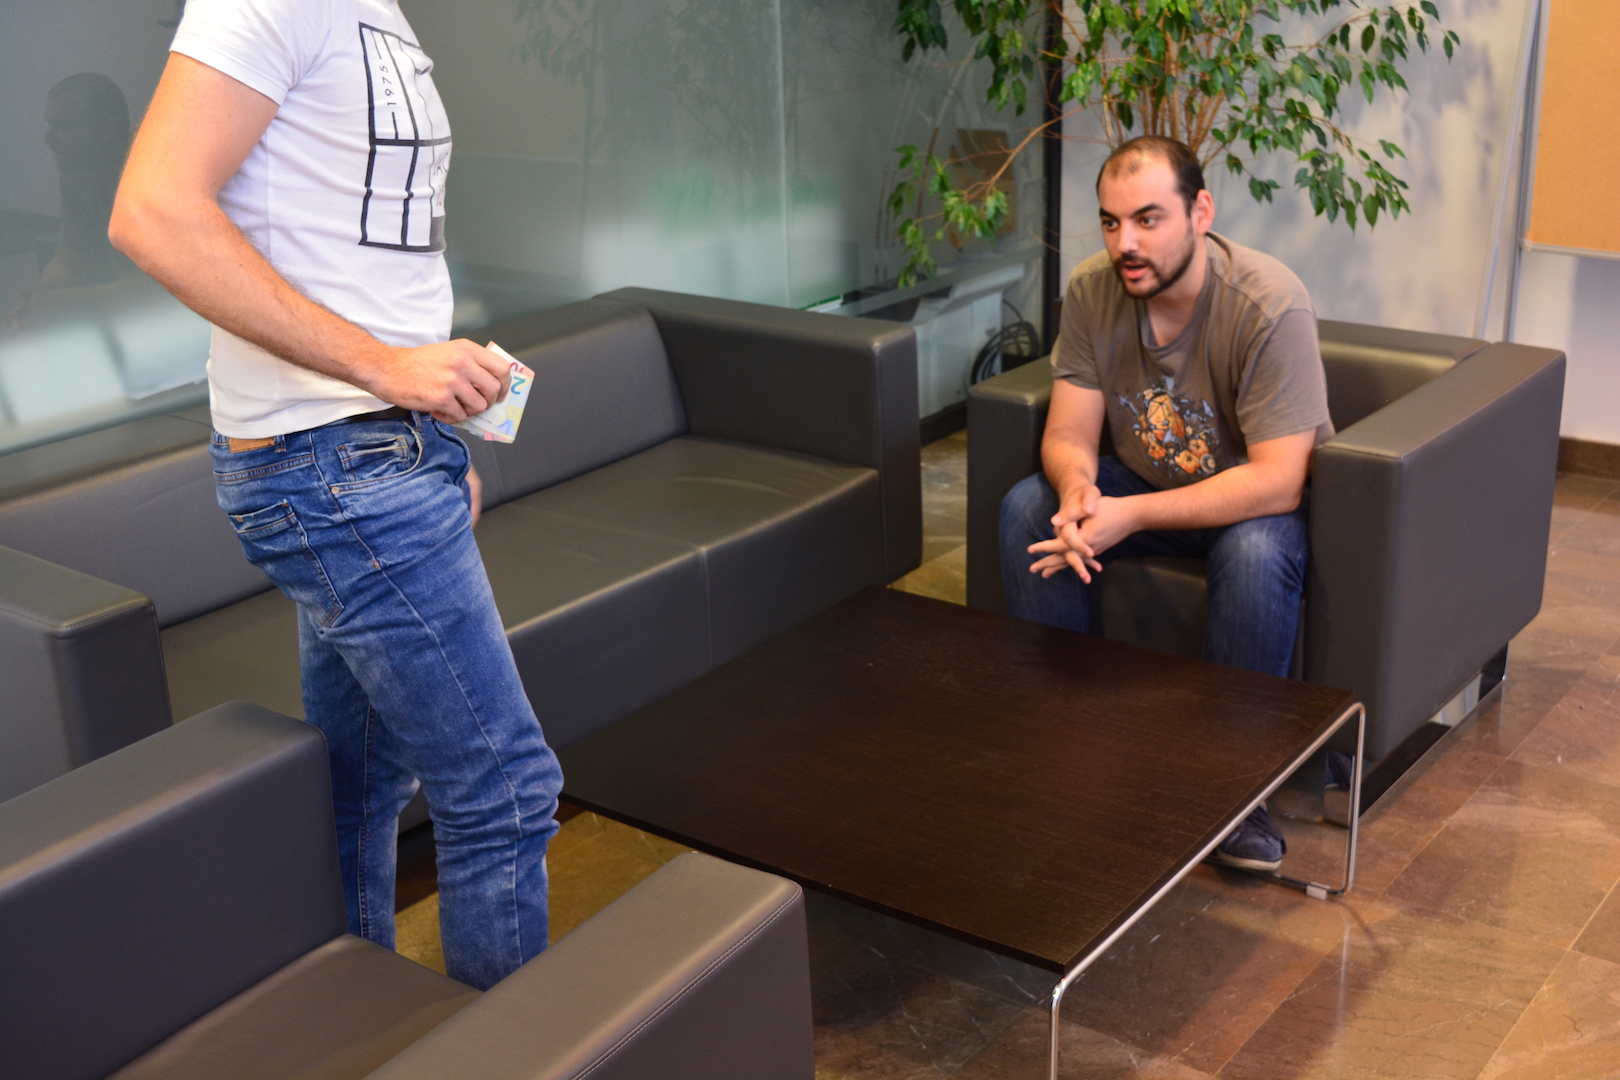billete: (447, 340, 538, 447)
